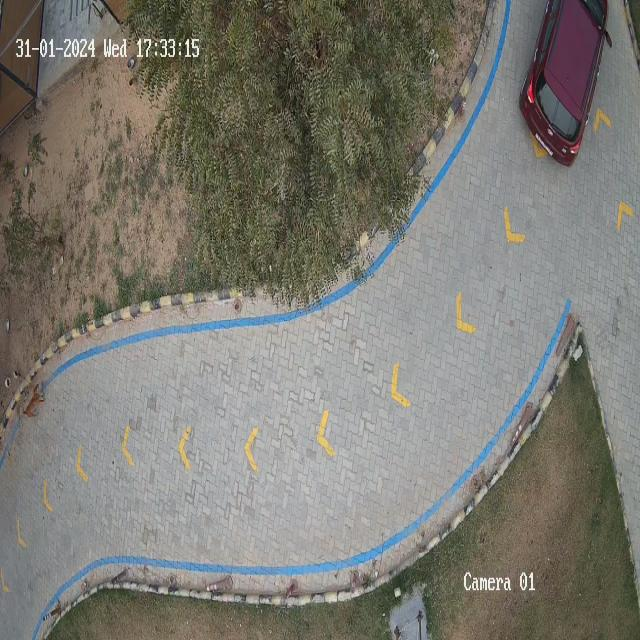car: (522, 0, 606, 166)
